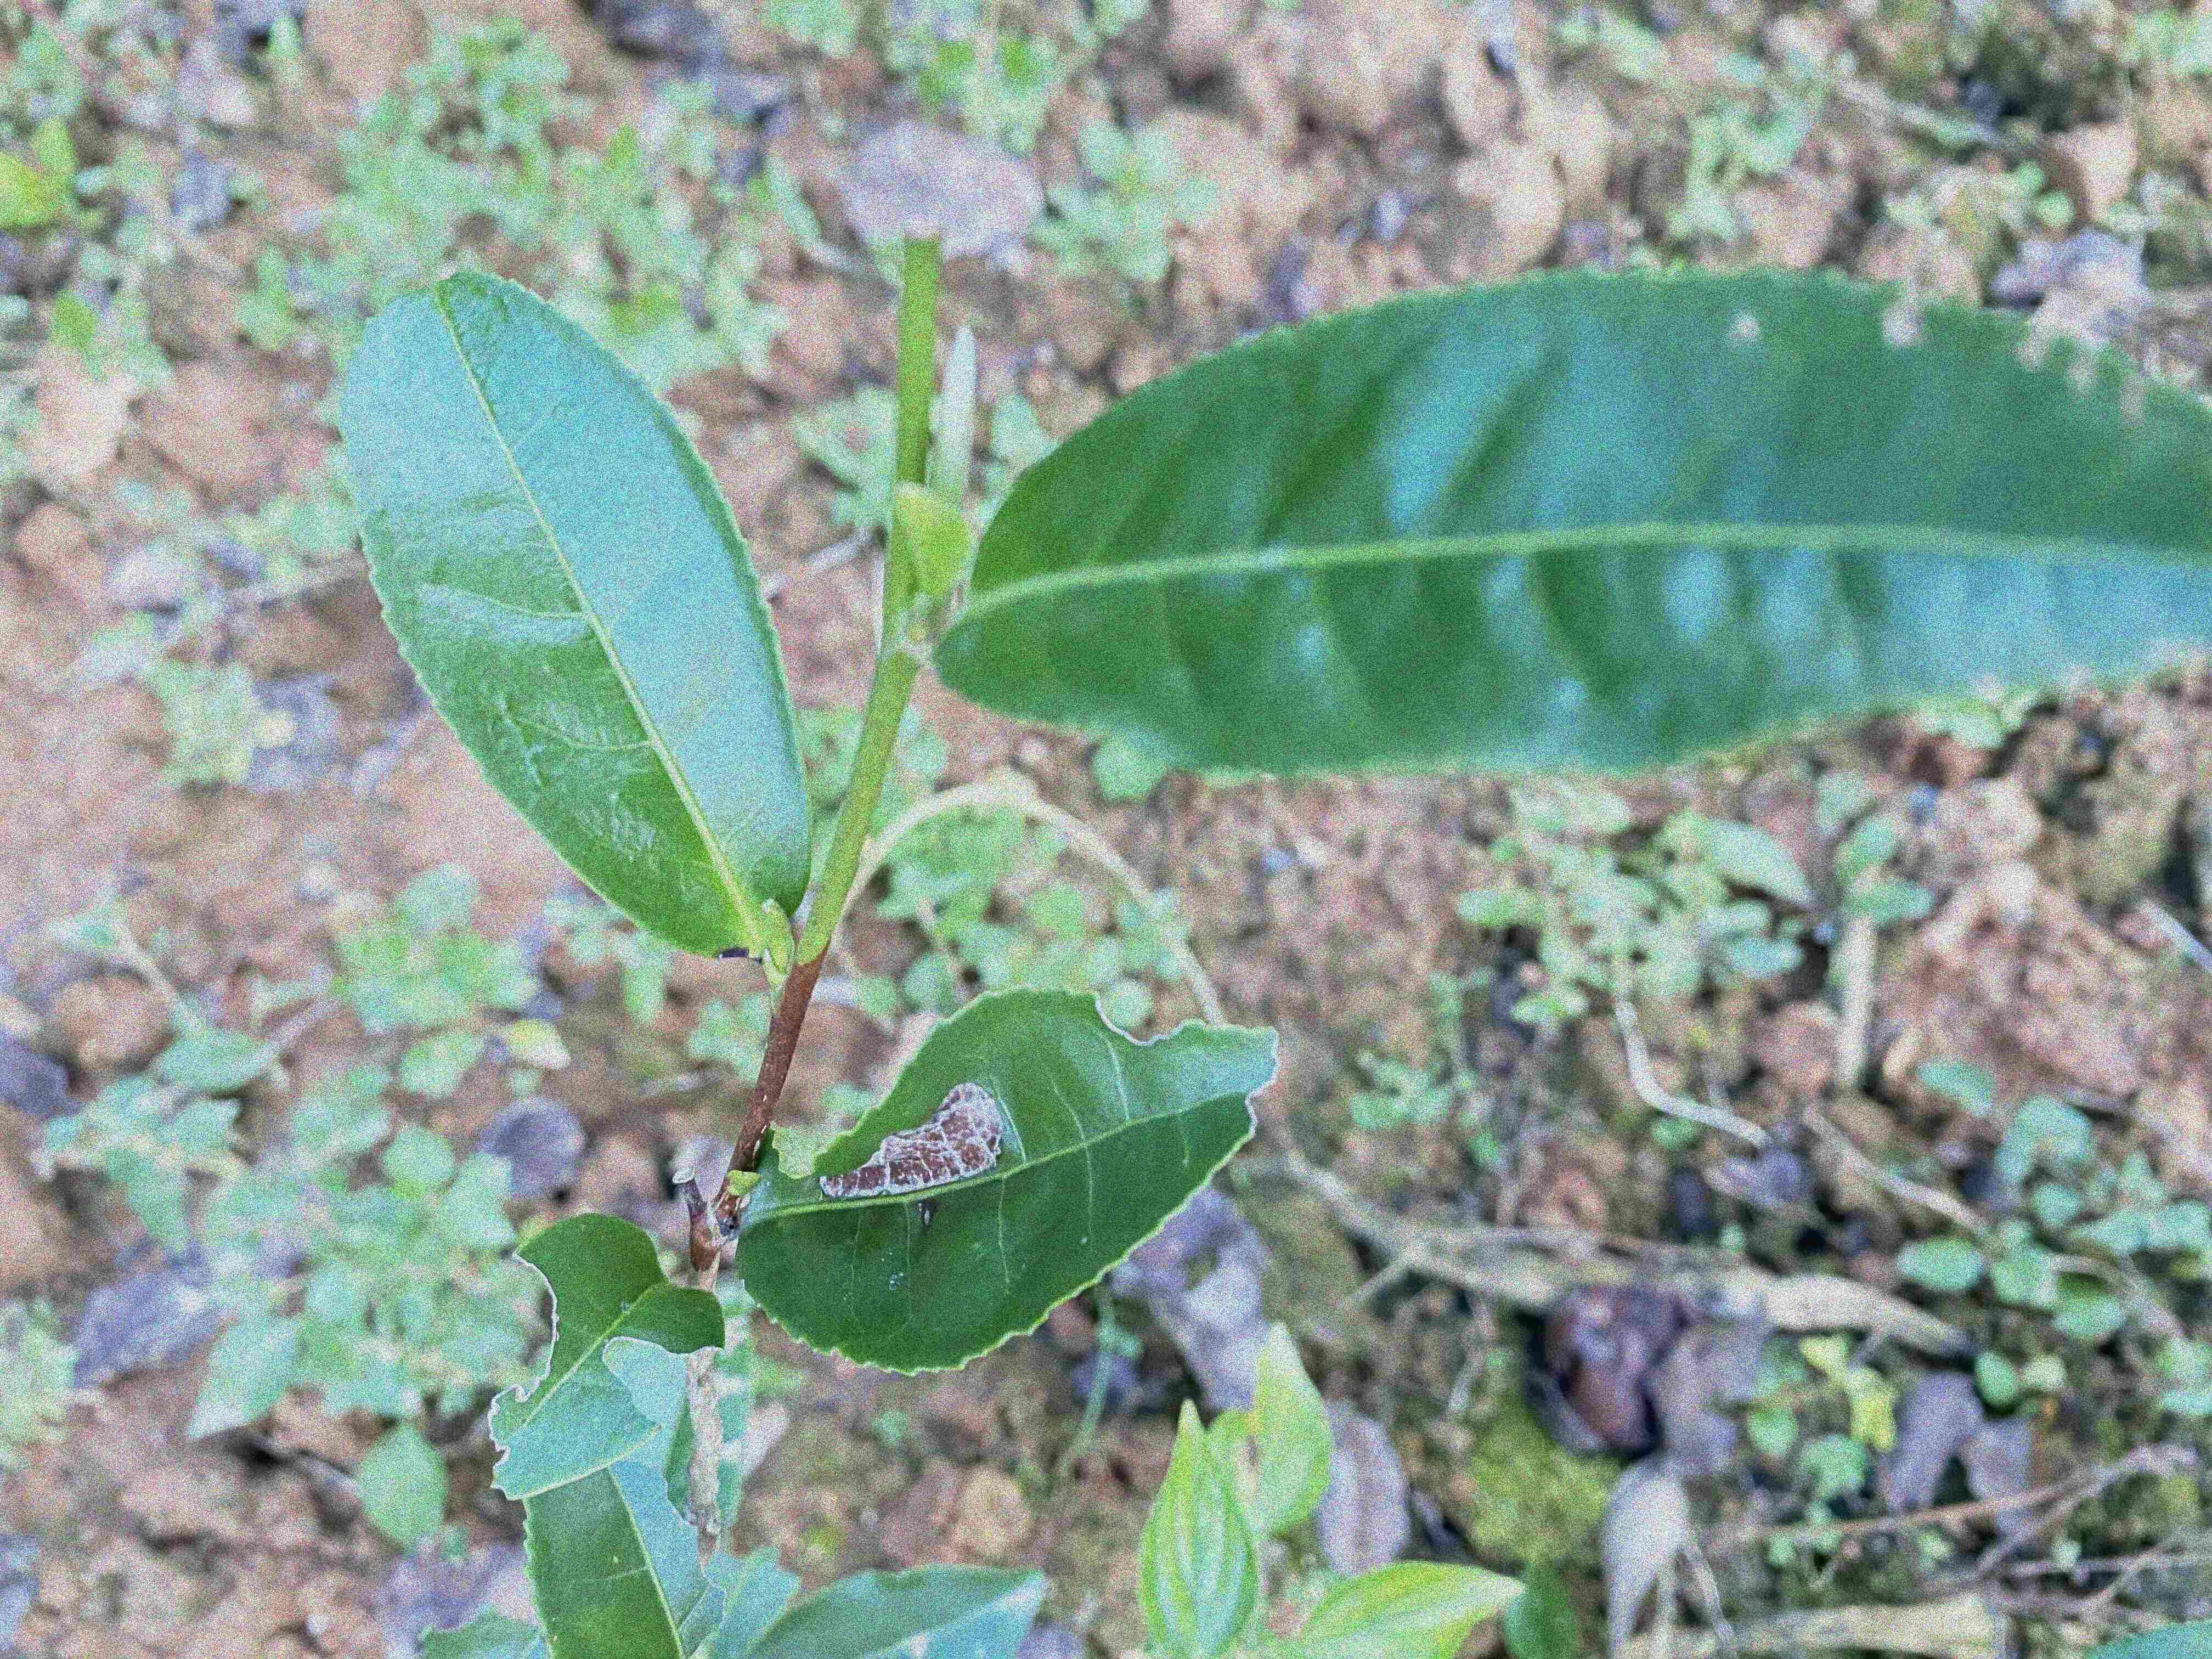chihuo_high: (482, 1211, 723, 1500)
healthy: (334, 267, 815, 957)
tanju_high: (737, 981, 1277, 1377)
tanju_low: (932, 261, 2210, 784)
